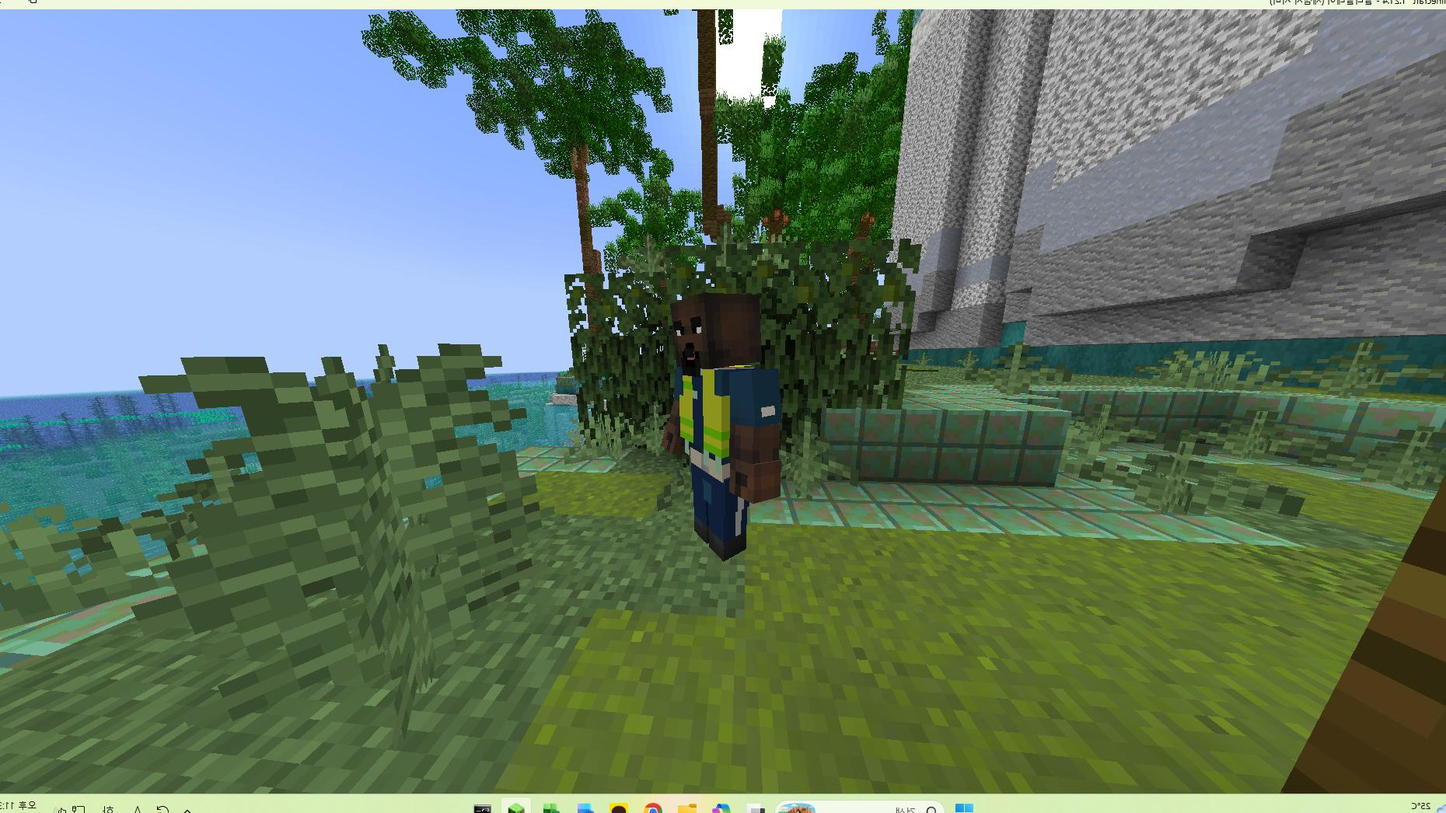Guardian: (663, 293, 781, 560)
